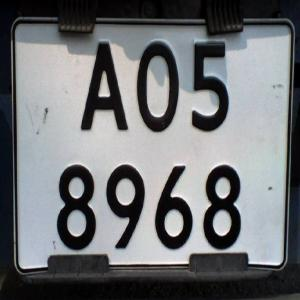Vehicle-registration-plate: (16, 41, 300, 279)
